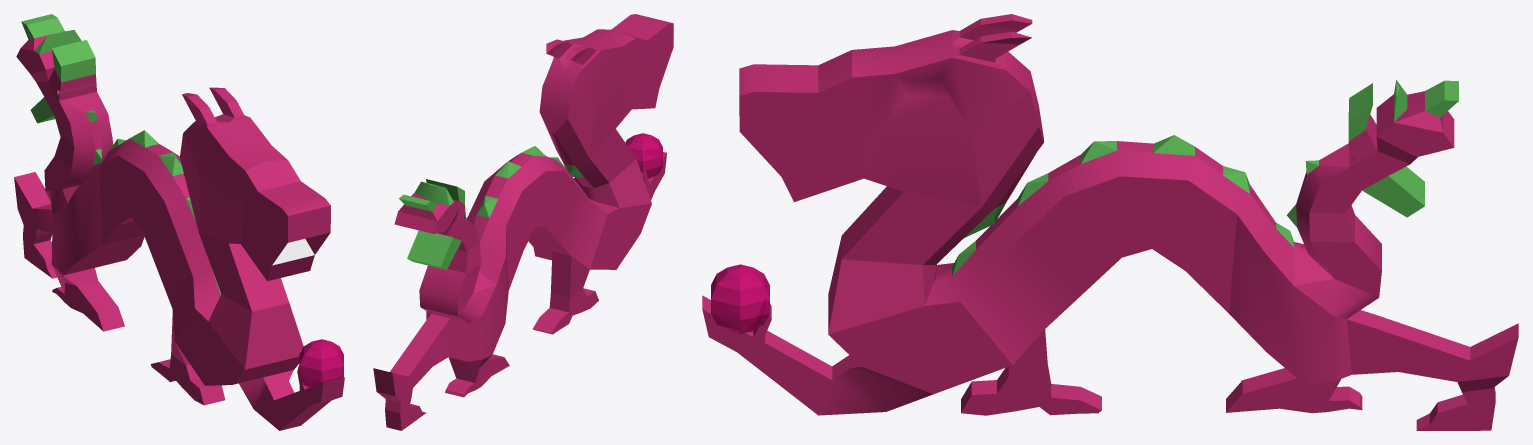
Rendered from DragonStatue.fbx.
The picture shows the model from 3 angles, left to right: view 1: azimuth 30°, elevation 25°; view 2: azimuth 150°, elevation 25°; view 3: azimuth 270°, elevation 25°; orthographic projection. The views are drawn at different scales.
Visible parts, largest first — view 1: chinese_dragon2; view 2: chinese_dragon2; view 3: chinese_dragon2.
Part boxes in pixels (bbox=[...]): chinese_dragon2: bbox=[14, 14, 344, 430]; chinese_dragon2: bbox=[373, 14, 673, 430]; chinese_dragon2: bbox=[702, 14, 1518, 430].
Size of the model in its own units: 1.88 by 8 by 15.02.
5 materials, 2 textured.
